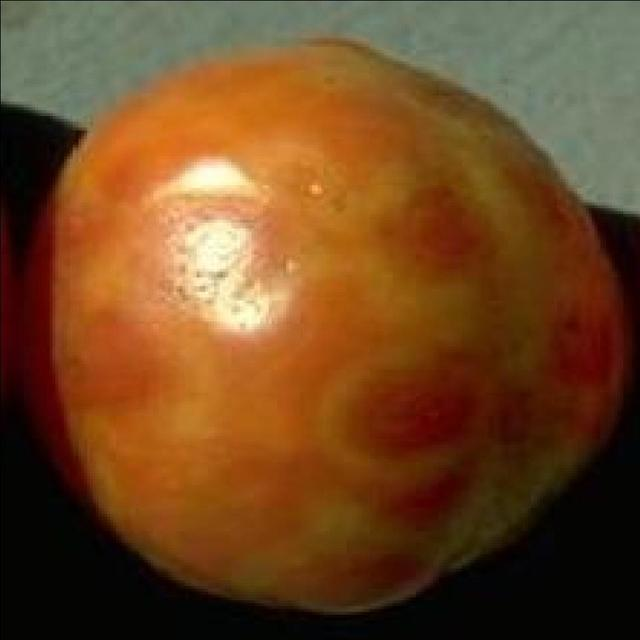Spotted wilt Virus Fruit: (20, 21, 419, 411)
